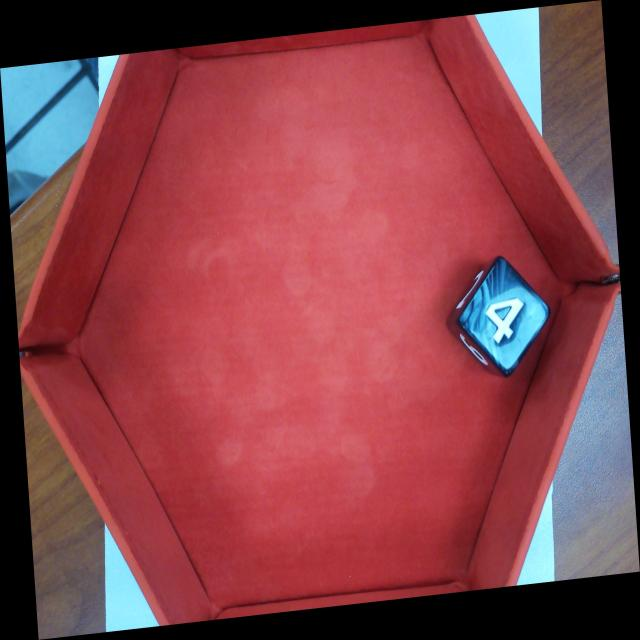dice: (463, 262, 548, 368)
